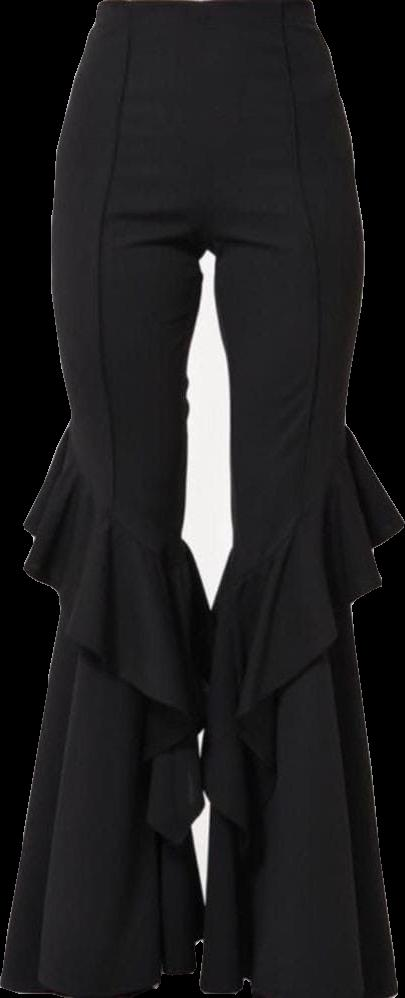Hemline: (200, 517, 404, 784), (22, 516, 205, 733), (0, 961, 204, 997), (198, 976, 400, 997)
Pantleg: (0, 0, 210, 997), (197, 0, 403, 997)
Waistline: (221, 433, 350, 584), (60, 430, 187, 557), (95, 0, 315, 14)
